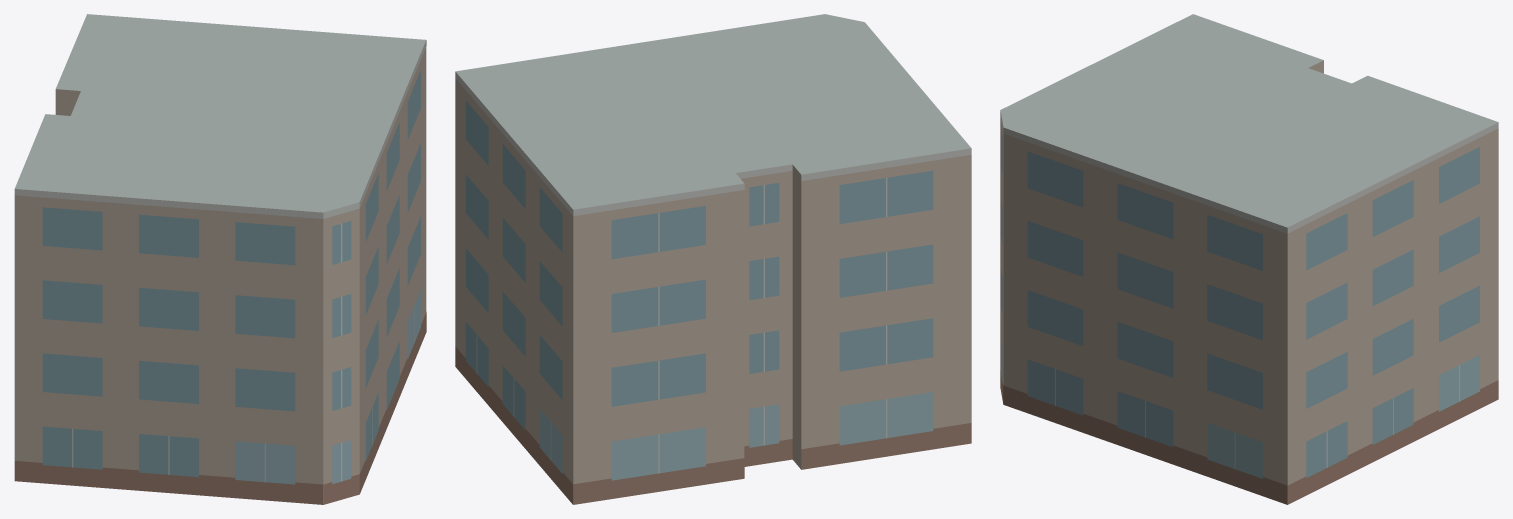
Rendered from survey-upis-33026727.glb.
3 renders of one model, left to right at view 1: azimuth 30°, elevation 25°; view 2: azimuth 150°, elevation 25°; view 3: azimuth 270°, elevation 25°, orthographic. The views are drawn at different scales.
Visible parts, largest first — view 1: survey-upis-33026727.tmp; view 2: survey-upis-33026727.tmp; view 3: survey-upis-33026727.tmp.
Part boxes in pixels (x1=…): survey-upis-33026727.tmp: x1=14, y1=14, x2=426, y2=504; survey-upis-33026727.tmp: x1=455, y1=14, x2=971, y2=504; survey-upis-33026727.tmp: x1=1000, y1=14, x2=1498, y2=504.
Size of the model in its own units: 18.52 by 11.2 by 18.25.
